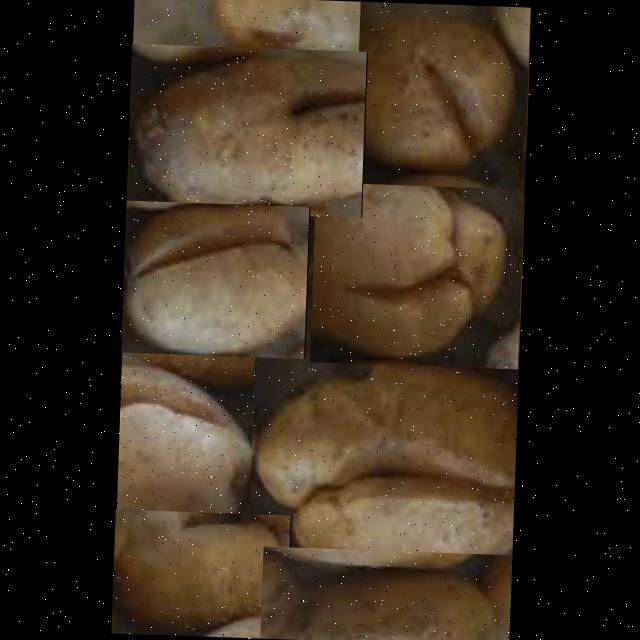Damaged potato: (251, 360, 517, 577), (308, 162, 524, 369), (125, 44, 366, 218), (353, 1, 529, 189), (120, 200, 309, 358), (113, 352, 254, 549), (259, 546, 510, 640), (110, 509, 290, 639)
